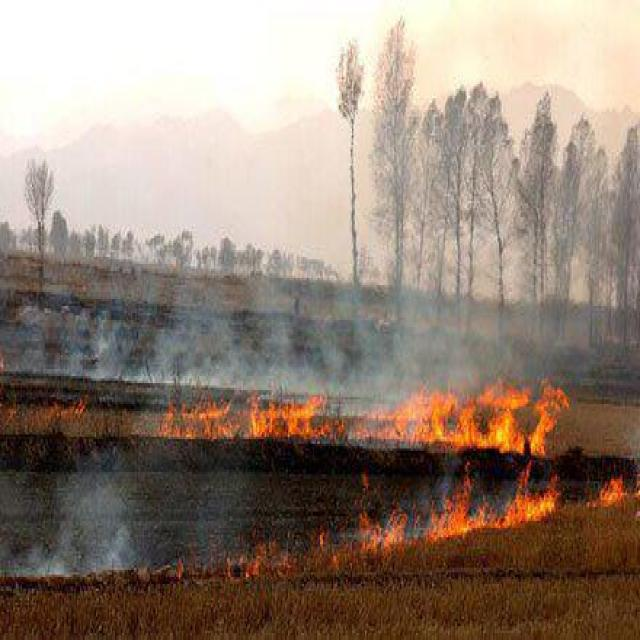fire: (339, 367, 563, 468), (158, 371, 329, 444), (426, 458, 560, 544), (354, 500, 410, 556), (590, 465, 628, 509), (234, 542, 261, 584)
smoke: (392, 288, 448, 366)
